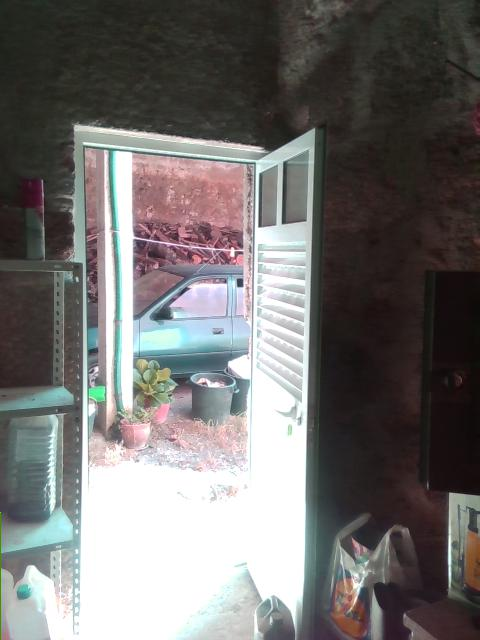open_door: (71, 122, 269, 616)
